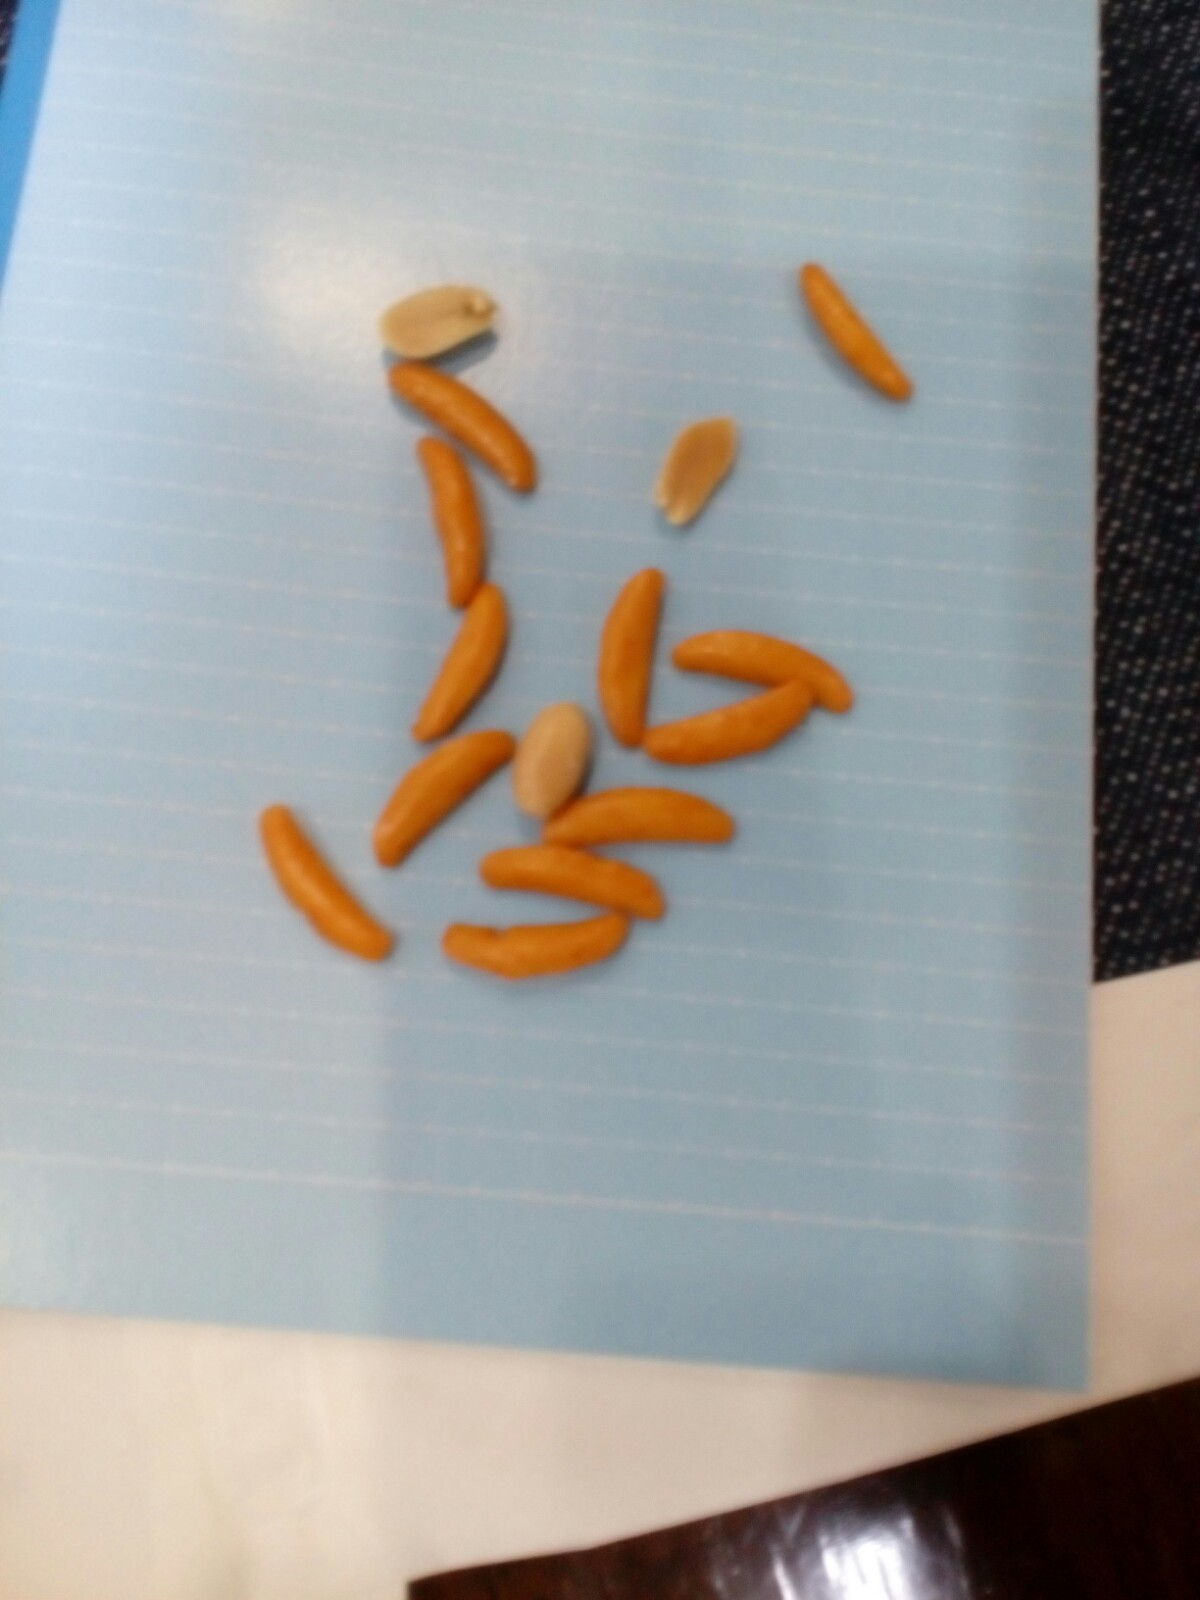peanut: (633, 396, 763, 530), (377, 273, 514, 370), (511, 697, 605, 829)
